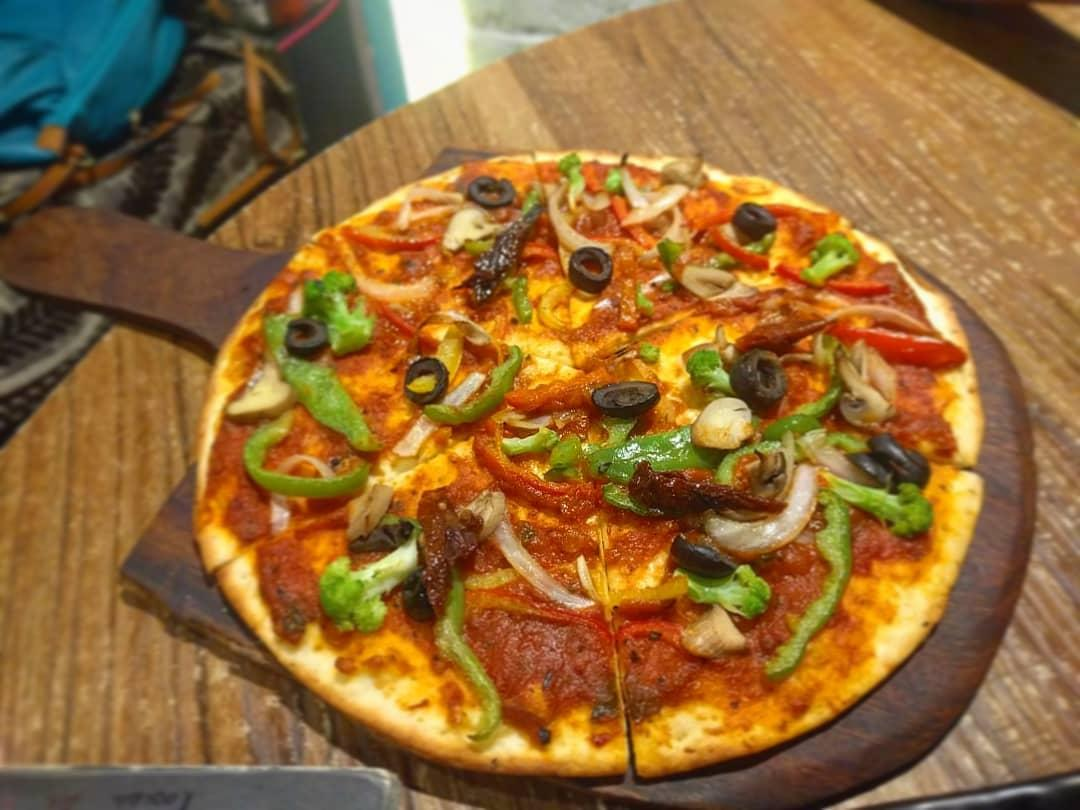Mushroom: (224, 356, 293, 418), (840, 368, 896, 427), (620, 182, 689, 227)
Olives: (846, 435, 930, 493), (732, 351, 786, 408), (672, 533, 736, 579), (592, 380, 660, 418), (405, 357, 448, 404), (350, 522, 413, 551), (570, 248, 613, 289), (284, 315, 328, 353), (734, 201, 777, 238), (404, 573, 434, 620), (470, 176, 515, 206)
Peppers: (257, 316, 375, 454), (769, 497, 850, 675), (440, 570, 502, 738), (244, 424, 369, 494), (474, 436, 590, 511), (300, 259, 379, 359), (425, 344, 521, 425), (824, 322, 968, 368), (590, 426, 699, 479), (676, 566, 773, 616), (796, 226, 860, 290), (775, 264, 892, 299), (677, 342, 738, 396), (343, 225, 442, 256), (713, 231, 768, 270), (513, 277, 534, 321)
Pizza: (193, 154, 992, 777)
